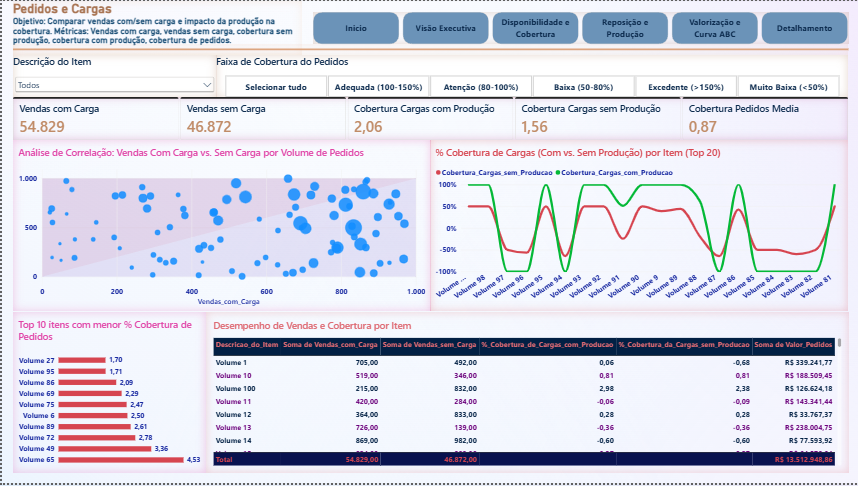

This screenshot's page, from the dashboard's own definition file:
{"tool":"powerbi","page":{"name":"Pedidos e Cargas","canvas":[1920,1080],"ordinal":5},"visuals":[{"type":"textbox","box":[24,0,648,120],"z":0},{"type":"pageNavigator","box":[696,24,1200,72],"z":1000},{"type":"shape","box":[24,96,1872,24],"z":2000},{"type":"slicer","title":"Faixa de Cobertura do Pedidos","fields":{"Values":["fEstoque.Faixa_Cobertura_Pedidos"]},"box":[480,120,1416,96],"z":2001},{"type":"slicer","title":"Descrição do Item","fields":{"Values":["fEstoque.Descricao_do_Item"]},"box":[24,120,456,96],"z":2002},{"type":"cardVisual","fields":{"Data":["Sum(fEstoque.Vendas_com_Carga)","Sum(fEstoque.Vendas_sem_Carga)","_Medidas.Cobertura_Cargas_com_Producao","_Medidas.Cobertura_Cargas_sem_Producao","_Medidas.Cobertura_Pedidos_Media"]},"box":[24,216,1872,96],"z":2003},{"type":"scatterChart","title":"Análise de Correlação: Vendas Com Carga vs. Sem Carga por Volume de Pedidos","fields":{"Size":["Sum(fEstoque.Valor_Pedidos)"],"X":["fEstoque.Vendas_com_Carga"],"Y":["Sum(fEstoque.Vendas_sem_Carga)"]},"box":[24,312,936,384],"z":2004},{"type":"barChart","title":"Top 10 itens com menor % Cobertura de Pedidos","fields":{"Category":["fEstoque.Descricao_do_Item"],"Y":["Sum(fEstoque.%_Cobertura_Pedidos)"]},"box":[24,696,432,360],"z":2005},{"type":"hundredPercentStackedAreaChart","title":"% Cobertura de Cargas (Com vs. Sem Produção) por Item (Top 20)","fields":{"Category":["fEstoque.Descricao_do_Item"],"Y":["_Medidas.Cobertura_Cargas_sem_Producao","_Medidas.Cobertura_Cargas_com_Producao"]},"box":[960,312,936,384],"z":2006},{"type":"tableEx","title":"Desempenho de Vendas e Cobertura por Item","fields":{"Values":["fEstoque.Descricao_do_Item","fEstoque.Vendas_com_Carga","Sum(fEstoque.Vendas_sem_Carga)","fEstoque.%_Cobertura_de_Cargas_com_Producao","fEstoque.%_Cobertura_da_Cargas_sem_Producao","Sum(fEstoque.Valor_Pedidos)"]},"box":[456,696,1440,360],"z":2007}]}

Visuals, with their boxes in screenshot pixels (x1, y1, x2, y2), scaled from the page's 1920x1080 canvas onto the 858x486 screenshot:
textbox: locate(11, 0, 300, 54)
pageNavigator: locate(311, 11, 847, 43)
shape: locate(11, 43, 847, 54)
"Faixa de Cobertura do Pedidos" slicer: locate(214, 54, 847, 97)
"Descrição do Item" slicer: locate(11, 54, 214, 97)
cardVisual - Sum(fEstoque.Vendas_com_Carga) x Sum(fEstoque.Vendas_sem_Carga): locate(11, 97, 847, 140)
"Análise de Correlação: Vendas Com Carga vs. Sem Carga por Volume de Pedidos" scatterChart: locate(11, 140, 429, 313)
"Top 10 itens com menor % Cobertura de Pedidos" barChart: locate(11, 313, 204, 475)
"% Cobertura de Cargas (Com vs. Sem Produção) por Item (Top 20)" hundredPercentStackedAreaChart: locate(429, 140, 847, 313)
"Desempenho de Vendas e Cobertura por Item" tableEx: locate(204, 313, 847, 475)
